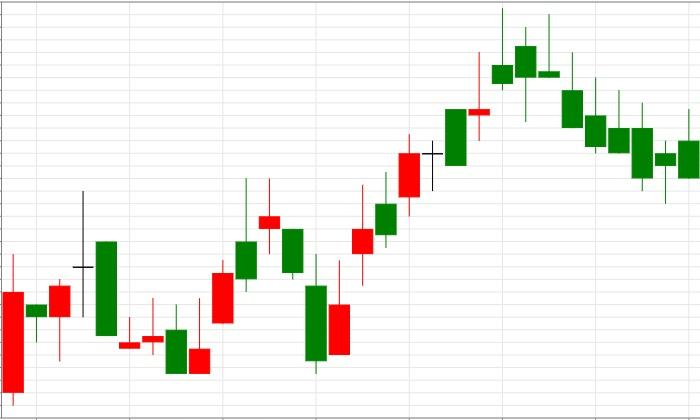shooting_star_fall: (305, 8, 514, 374)
